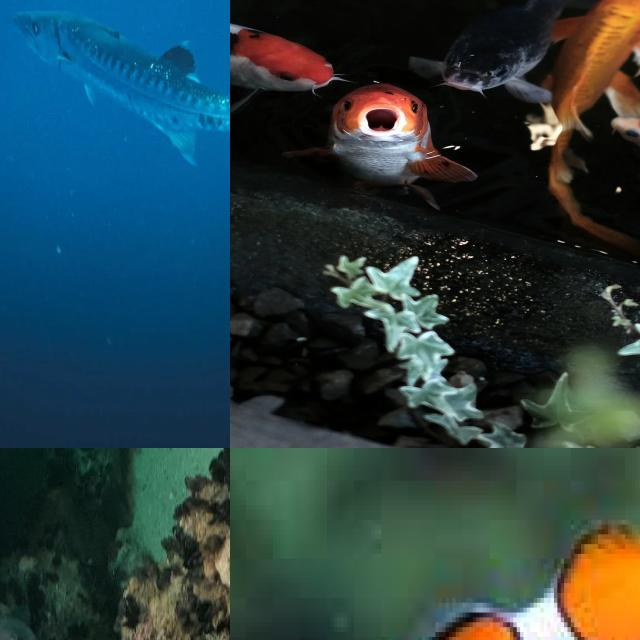fish: (0, 0, 230, 448), (230, 539, 640, 640), (395, 0, 640, 80)
